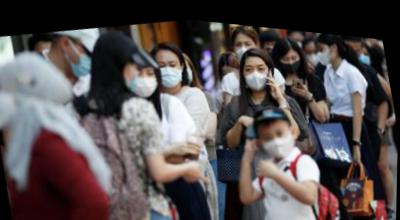OK: (65, 36, 98, 80), (260, 119, 297, 157), (130, 60, 162, 99), (242, 53, 274, 90), (156, 51, 186, 88), (233, 30, 260, 62), (122, 57, 144, 92), (304, 40, 322, 63), (317, 37, 334, 61), (357, 41, 373, 61)
WRONG: (278, 44, 305, 71)
